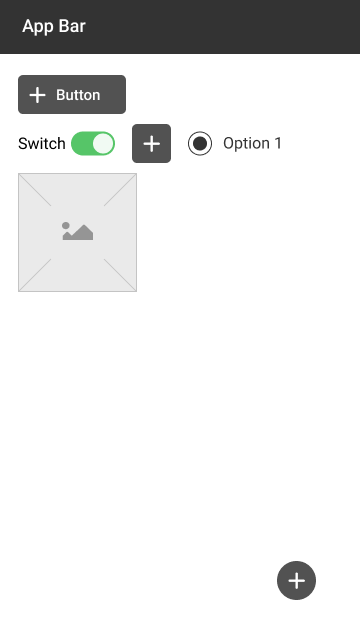buttonIcon: (130, 123, 173, 165)
buttonImage: (15, 73, 129, 116)
floatingButton: (276, 560, 318, 601)
imageView: (16, 169, 141, 294)
radioButton: (184, 127, 288, 161)
switch: (16, 130, 118, 158)
toolbar: (1, 1, 359, 53)
